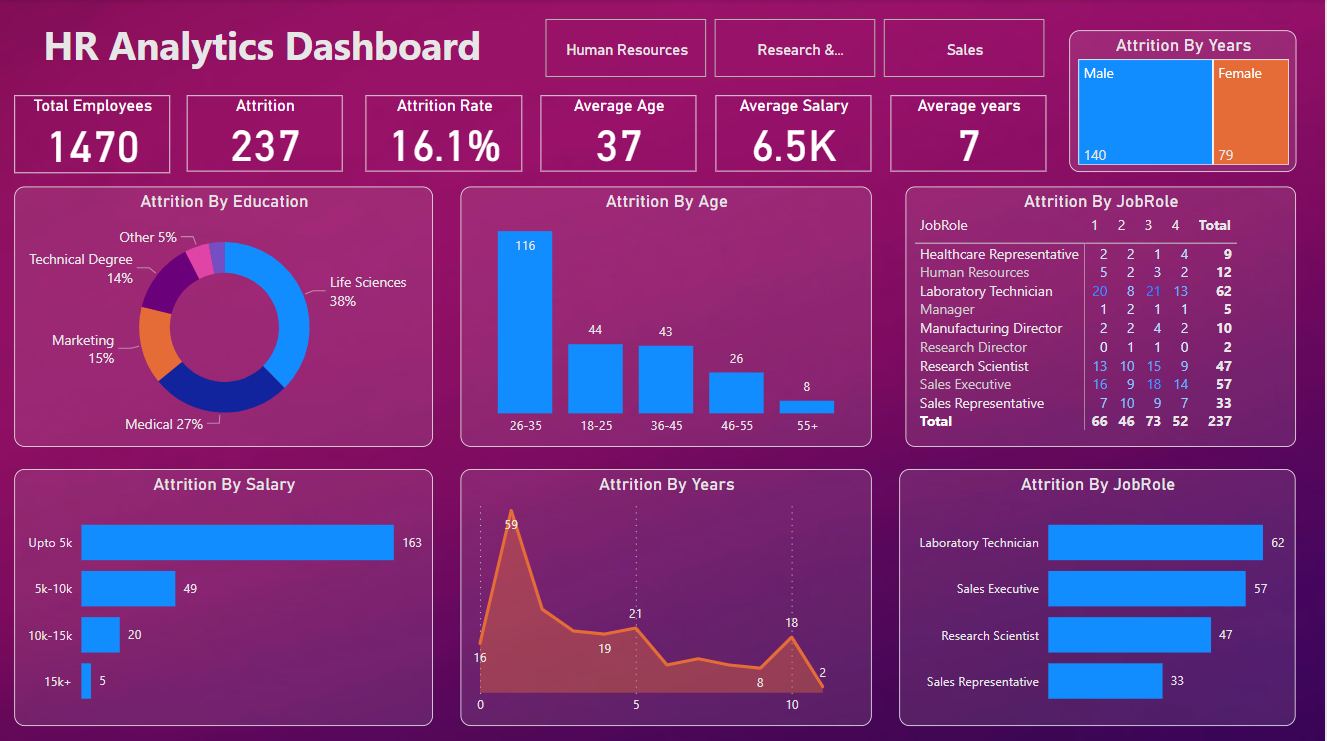

The dashboard page shown, as its layout file describes it:
{"tool":"powerbi","page":{"name":"Page 1","canvas":[1280,720],"ordinal":0},"visuals":[{"type":"card","title":"Total Employees","fields":{"Values":["Count(HR_Analytics.EmpID)"]},"box":[15.9,92.3,150,75],"z":0},{"type":"card","title":"Attrition","fields":{"Values":["Sum(HR_Analytics.AttritionCount)"]},"box":[181.8,92.3,150,73.6],"z":1000},{"type":"card","title":"Attrition Rate","fields":{"Values":["HR_Analytics.AttritionRate"]},"box":[354.9,92.3,151.5,73.6],"z":2000},{"type":"card","title":"Average Age","fields":{"Values":["Avg(HR_Analytics.Age)"]},"box":[523.7,92.3,150,73.6],"z":3000},{"type":"card","title":"Average Salary","fields":{"Values":["Avg(HR_Analytics.MonthlyIncome)"]},"box":[692.5,92.3,150,73.6],"z":4000},{"type":"card","title":"Average years","fields":{"Values":["Avg(HR_Analytics.YearsAtCompany)"]},"box":[861.3,92.3,150,73.6],"z":5000},{"type":"donutChart","title":"Attrition By Education","fields":{"Category":["HR_Analytics.EducationField"],"Y":["Sum(HR_Analytics.AttritionCount)"]},"box":[15.9,180.3,404,251],"z":6000},{"type":"pivotTable","title":"Attrition By JobRole","fields":{"Rows":["HR_Analytics.JobRole"],"Columns":["HR_Analytics.JobSatisfaction"],"Values":["Sum(HR_Analytics.AttritionCount)"]},"box":[875.8,180.3,376.6,251],"z":7000},{"type":"columnChart","title":"Attrition By Age","fields":{"Y":["Sum(HR_Analytics.AttritionCount)"],"Category":["HR_Analytics.AgeGroup"]},"box":[445.8,180.3,396.8,251],"z":8000},{"type":"clusteredBarChart","title":"Attrition By Salary","fields":{"Y":["Sum(HR_Analytics.AttritionCount)"],"Category":["HR_Analytics.SalarySlab"]},"box":[15.9,453,404,248.2],"z":9000},{"type":"areaChart","title":"Attrition By Years","fields":{"Category":["HR_Analytics.YearsAtCompany"],"Y":["Sum(HR_Analytics.AttritionCount)"]},"box":[445.8,453,396.8,248.2],"z":10000},{"type":"clusteredBarChart","title":"Attrition By JobRole","fields":{"Y":["Sum(HR_Analytics.AttritionCount)"],"Category":["HR_Analytics.JobRole"]},"box":[870,453,382.3,248.2],"z":11000},{"type":"treemap","title":"Attrition By Years","fields":{"Group":["HR_Analytics.Gender"],"Values":["Sum(HR_Analytics.AttritionCount)"]},"box":[1033,30.3,219.3,137.1],"z":12000},{"type":"advancedSlicerVisual","fields":{"Values":["HR_Analytics.Department"]},"box":[523.7,14.4,493.4,66.4],"z":13000},{"type":"textbox","box":[38.6,14.5,453.5,67.5],"z":14000}]}

Visuals, with their boxes in screenshot pixels (x1, y1, x2, y2), scaled from the page's 1280x720 canvas onto the 1327x741 screenshot:
"Total Employees" card: select_region(16, 95, 172, 172)
"Attrition" card: select_region(188, 95, 344, 171)
"Attrition Rate" card: select_region(368, 95, 525, 171)
"Average Age" card: select_region(543, 95, 698, 171)
"Average Salary" card: select_region(718, 95, 873, 171)
"Average years" card: select_region(893, 95, 1048, 171)
"Attrition By Education" donutChart: select_region(16, 186, 435, 444)
"Attrition By JobRole" pivotTable: select_region(908, 186, 1298, 444)
"Attrition By Age" columnChart: select_region(462, 186, 874, 444)
"Attrition By Salary" clusteredBarChart: select_region(16, 466, 435, 722)
"Attrition By Years" areaChart: select_region(462, 466, 874, 722)
"Attrition By JobRole" clusteredBarChart: select_region(902, 466, 1298, 722)
"Attrition By Years" treemap: select_region(1071, 31, 1298, 172)
advancedSlicerVisual - HR_Analytics.Department: select_region(543, 15, 1054, 83)
textbox: select_region(40, 15, 510, 84)
